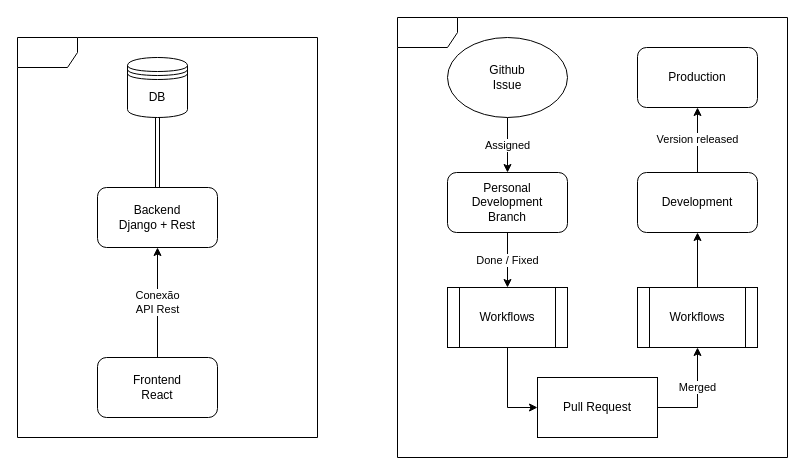
Image size: 805x475. Some labels were removed from this diagram. Here are the shapes that lost their labels. From the top down, the centre of each, then its label:
the point at 167,237: Site
the point at 592,237: Github
